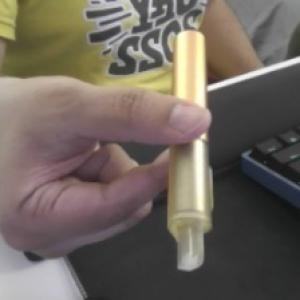Golden-E-Ciggirate: (167, 23, 214, 276)
